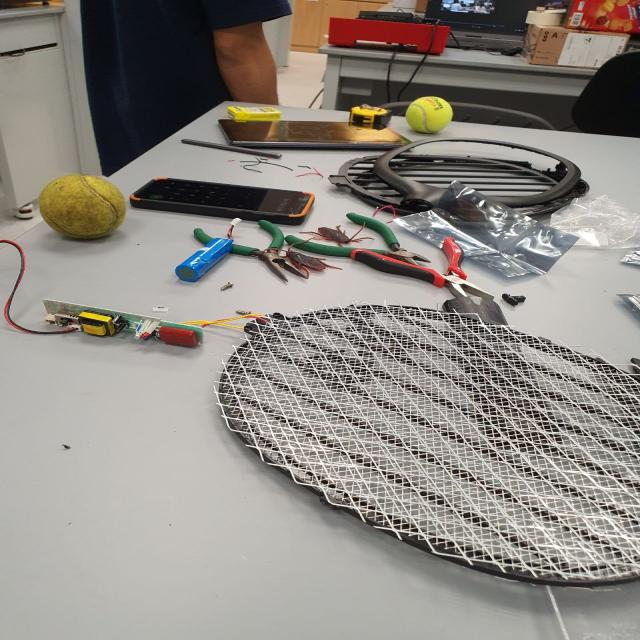Cockroach: (295, 211, 385, 253), (281, 247, 342, 284)
